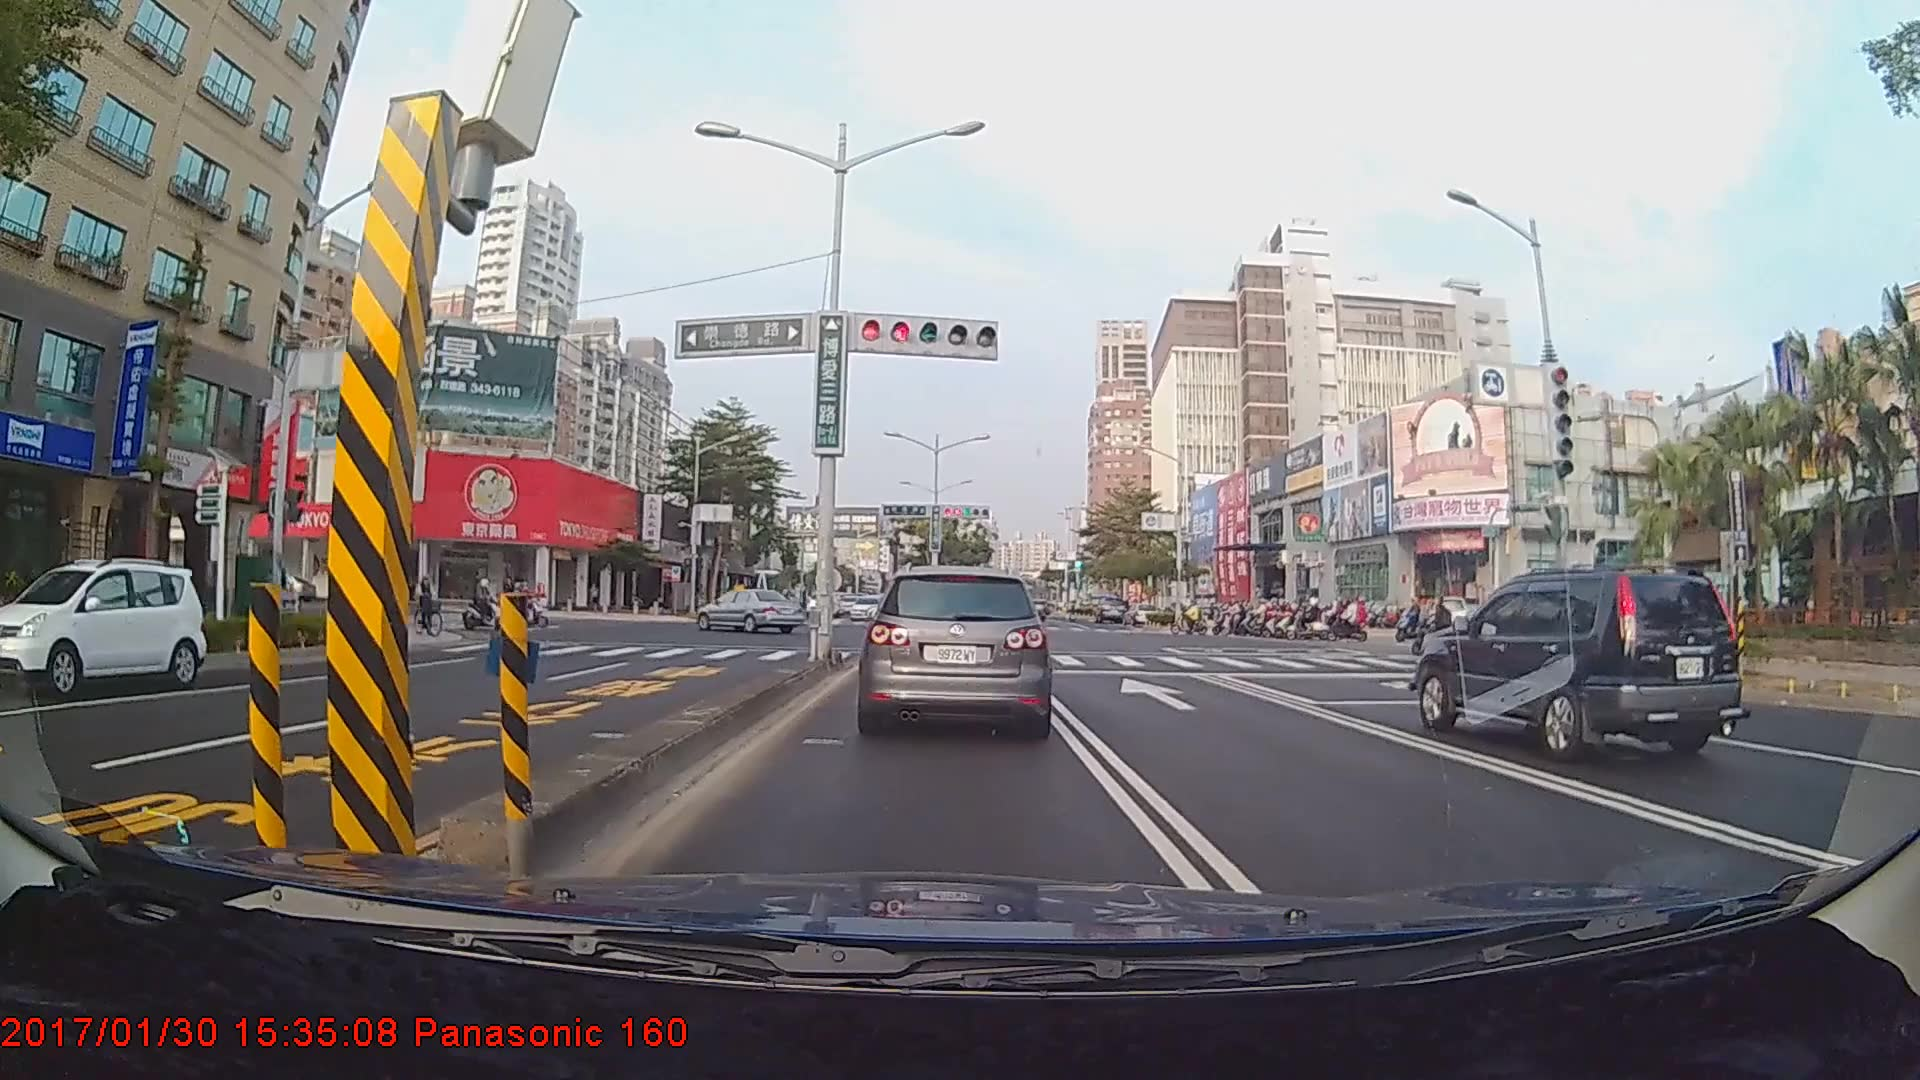rider: (461, 574, 512, 634), (1322, 594, 1375, 644), (1302, 601, 1348, 640), (1171, 602, 1207, 636)
vehicle: (1411, 568, 1749, 766), (864, 564, 1054, 733), (10, 559, 205, 696), (693, 584, 812, 633), (1095, 595, 1127, 624)
